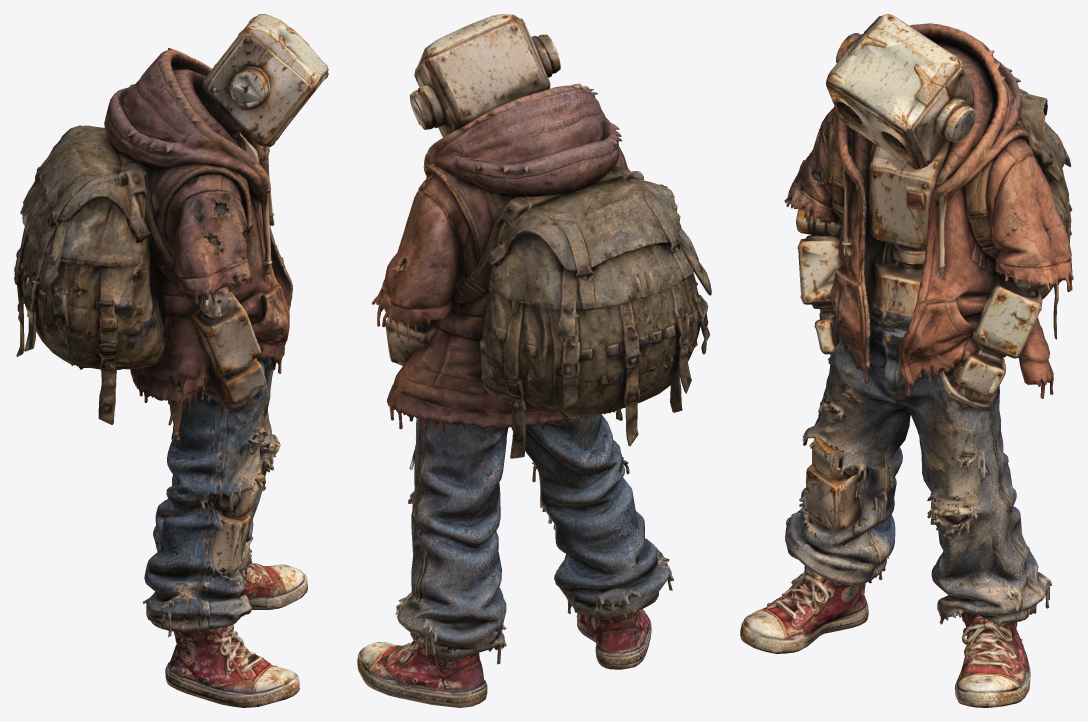
The model's file is post-apocalyptic-robot.glb.
The picture shows the model from 3 angles, left to right: view 1: azimuth 30°, elevation 25°; view 2: azimuth 150°, elevation 25°; view 3: azimuth 270°, elevation 25°; orthographic projection. The views are drawn at different scales.
Parts seen in each view (by area): view 1: tripo_node_ed050ae3-341b-4982-906b-a933747f7e8f; view 2: tripo_node_ed050ae3-341b-4982-906b-a933747f7e8f; view 3: tripo_node_ed050ae3-341b-4982-906b-a933747f7e8f.
Part boxes in pixels (<box>): tripo_node_ed050ae3-341b-4982-906b-a933747f7e8f: <box>14,14,328,707</box>; tripo_node_ed050ae3-341b-4982-906b-a933747f7e8f: <box>357,14,711,707</box>; tripo_node_ed050ae3-341b-4982-906b-a933747f7e8f: <box>740,14,1073,707</box>.
Size of the model in its own units: 0.4974 by 0.9788 by 0.4554.
1 material, 1 textured.
